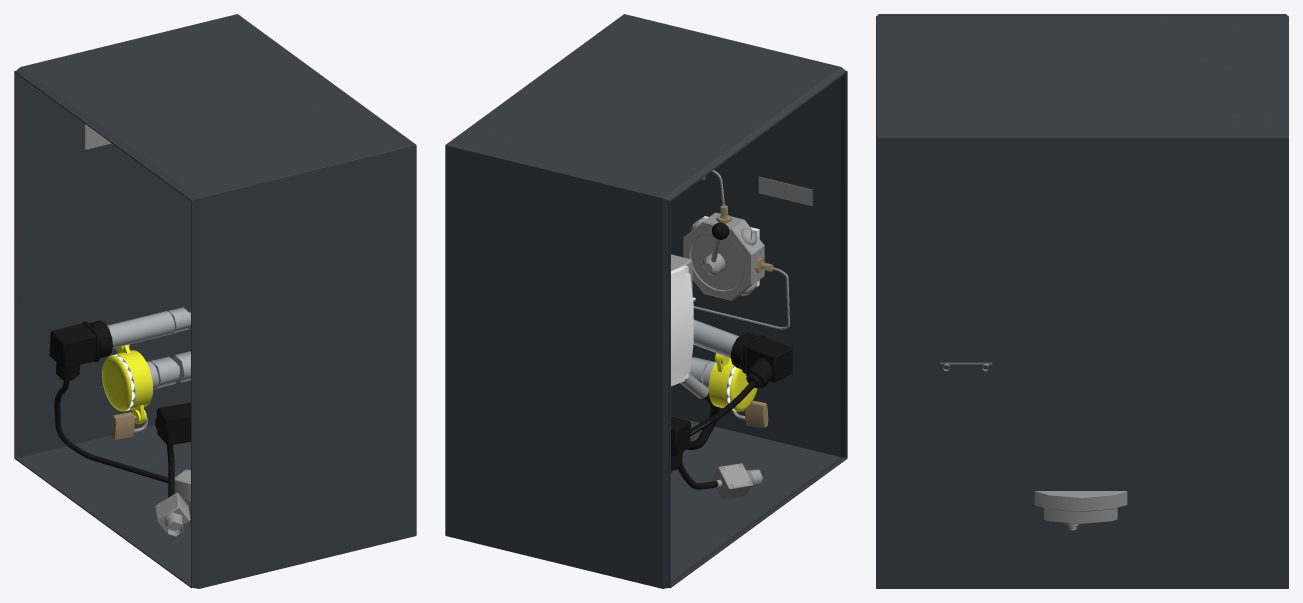
Rendered from SM_ModuleExt.fbx.
3 renders of one model, left to right at view 1: azimuth 30°, elevation 25°; view 2: azimuth 150°, elevation 25°; view 3: azimuth 270°, elevation 25°, orthographic. The views are drawn at different scales.
Visible parts, largest first — view 1: SM_ModuleExt_LOD0; view 2: SM_ModuleExt_LOD0; view 3: SM_ModuleExt_LOD0.
Part boxes in pixels (left/top/right/bottom): SM_ModuleExt_LOD0: left=14, top=14, right=416, bottom=588; SM_ModuleExt_LOD0: left=445, top=14, right=847, bottom=588; SM_ModuleExt_LOD0: left=876, top=14, right=1288, bottom=588.
Size of the model in its own units: 63.04 by 82.94 by 99.97.
2 materials, 2 textured.
